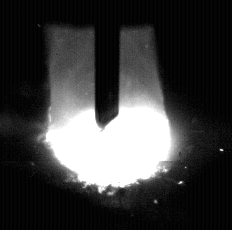arame: (95, 0, 122, 131)
poca: (46, 0, 172, 230)
